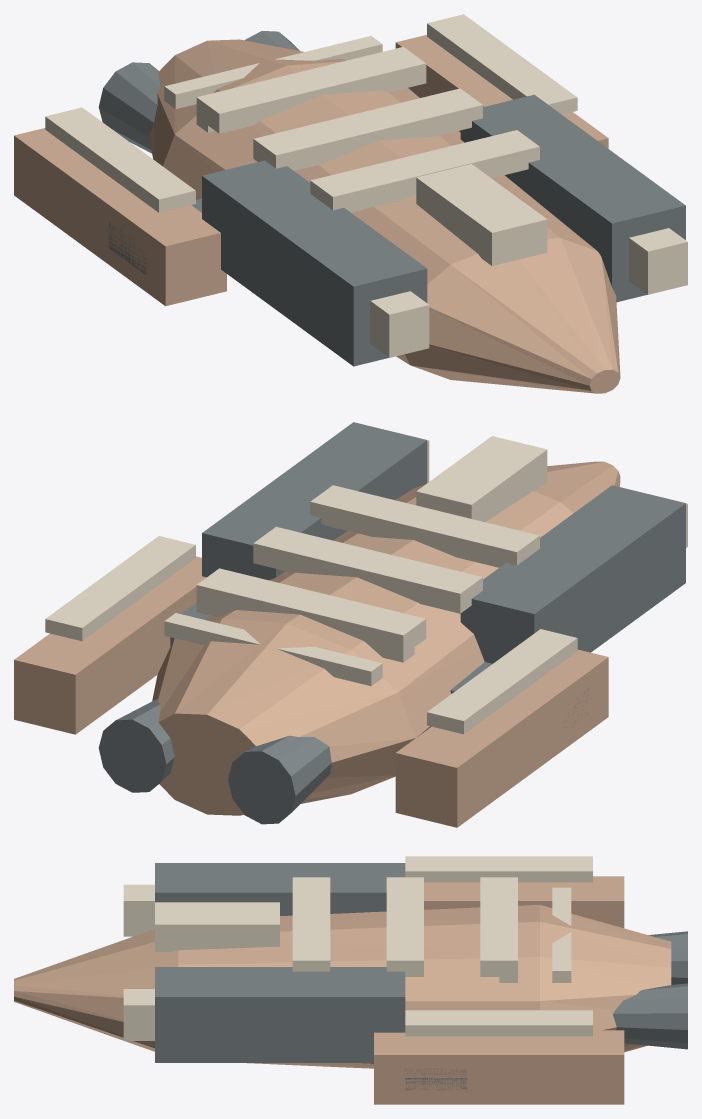
3 renders of one model, top to bottom at view 1: azimuth 30°, elevation 25°; view 2: azimuth 150°, elevation 25°; view 3: azimuth 270°, elevation 25°, orthographic. The views are drawn at different scales.
Bounding box in the file's own units: 2.62 × 0.9964 × 4.18.
